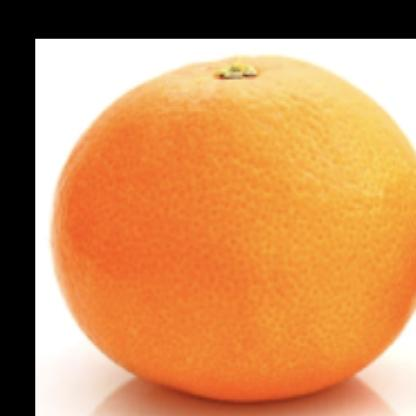fresh: (54, 61, 416, 404)
